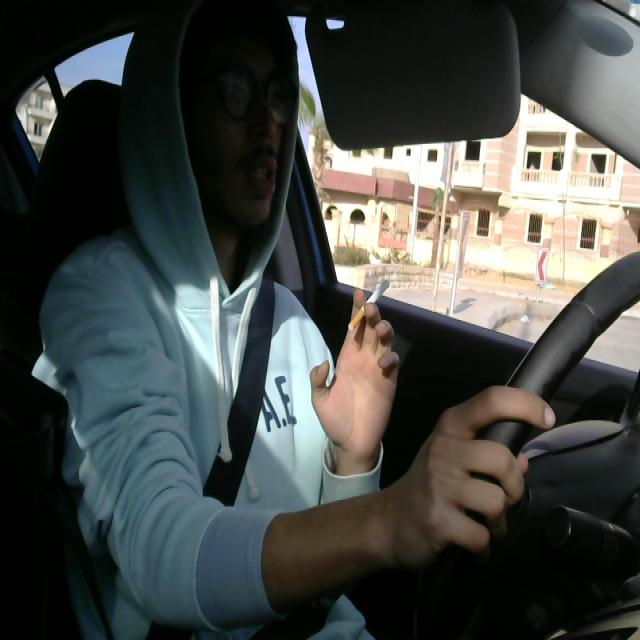smoking: (342, 271, 397, 341)
